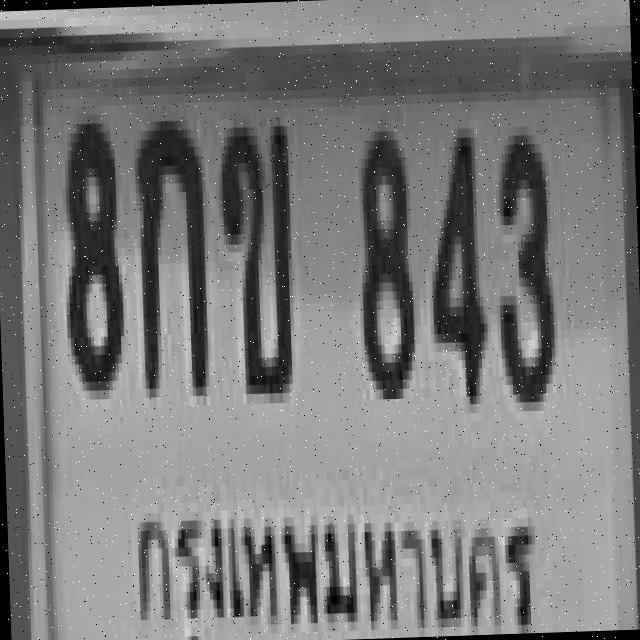10GorGai: (131, 110, 207, 388)
11KhorKhai: (214, 117, 294, 395)
3: (490, 125, 553, 402)
4: (423, 119, 486, 396)
8: (59, 105, 122, 382), (353, 122, 412, 390)
Bangkok: (125, 454, 537, 640)
